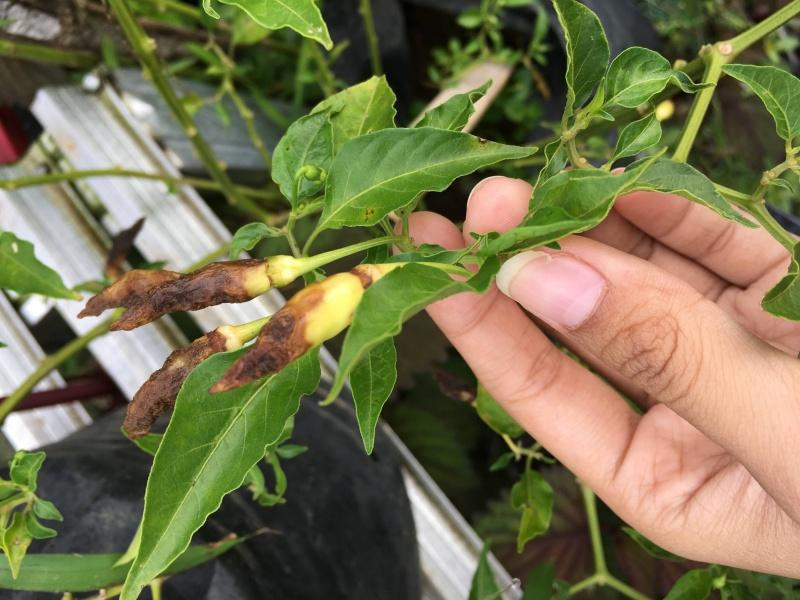antraknosa: (207, 274, 369, 398), (103, 255, 301, 334), (120, 327, 239, 443)
